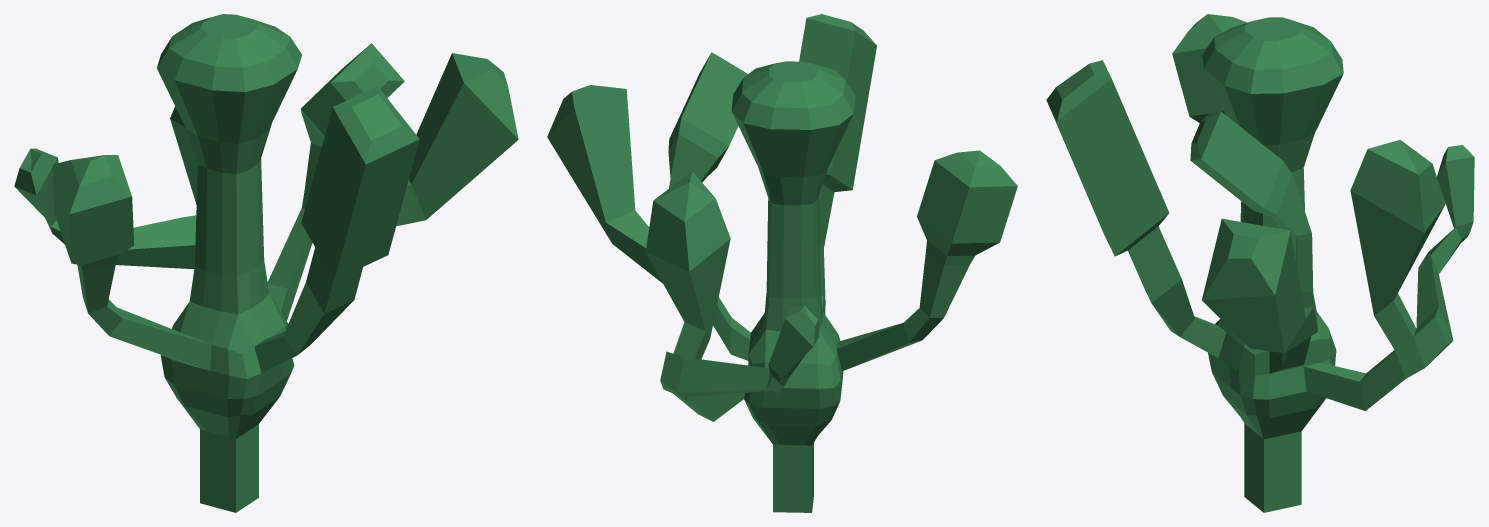
Rendered from S0.Cactus3.glb.
3 renders of one model, left to right at view 1: azimuth 30°, elevation 25°; view 2: azimuth 150°, elevation 25°; view 3: azimuth 270°, elevation 25°, orthographic. The views are drawn at different scales.
Parts seen in each view (by area): view 1: Cube.001; view 2: Cube.001; view 3: Cube.001.
Part boxes in pixels (left/top/right/bottom): Cube.001: left=14, top=14, right=518, bottom=512; Cube.001: left=547, top=14, right=1017, bottom=512; Cube.001: left=1046, top=14, right=1474, bottom=512.
Size of the model in its own units: 5.83 by 5.6 by 4.61.
